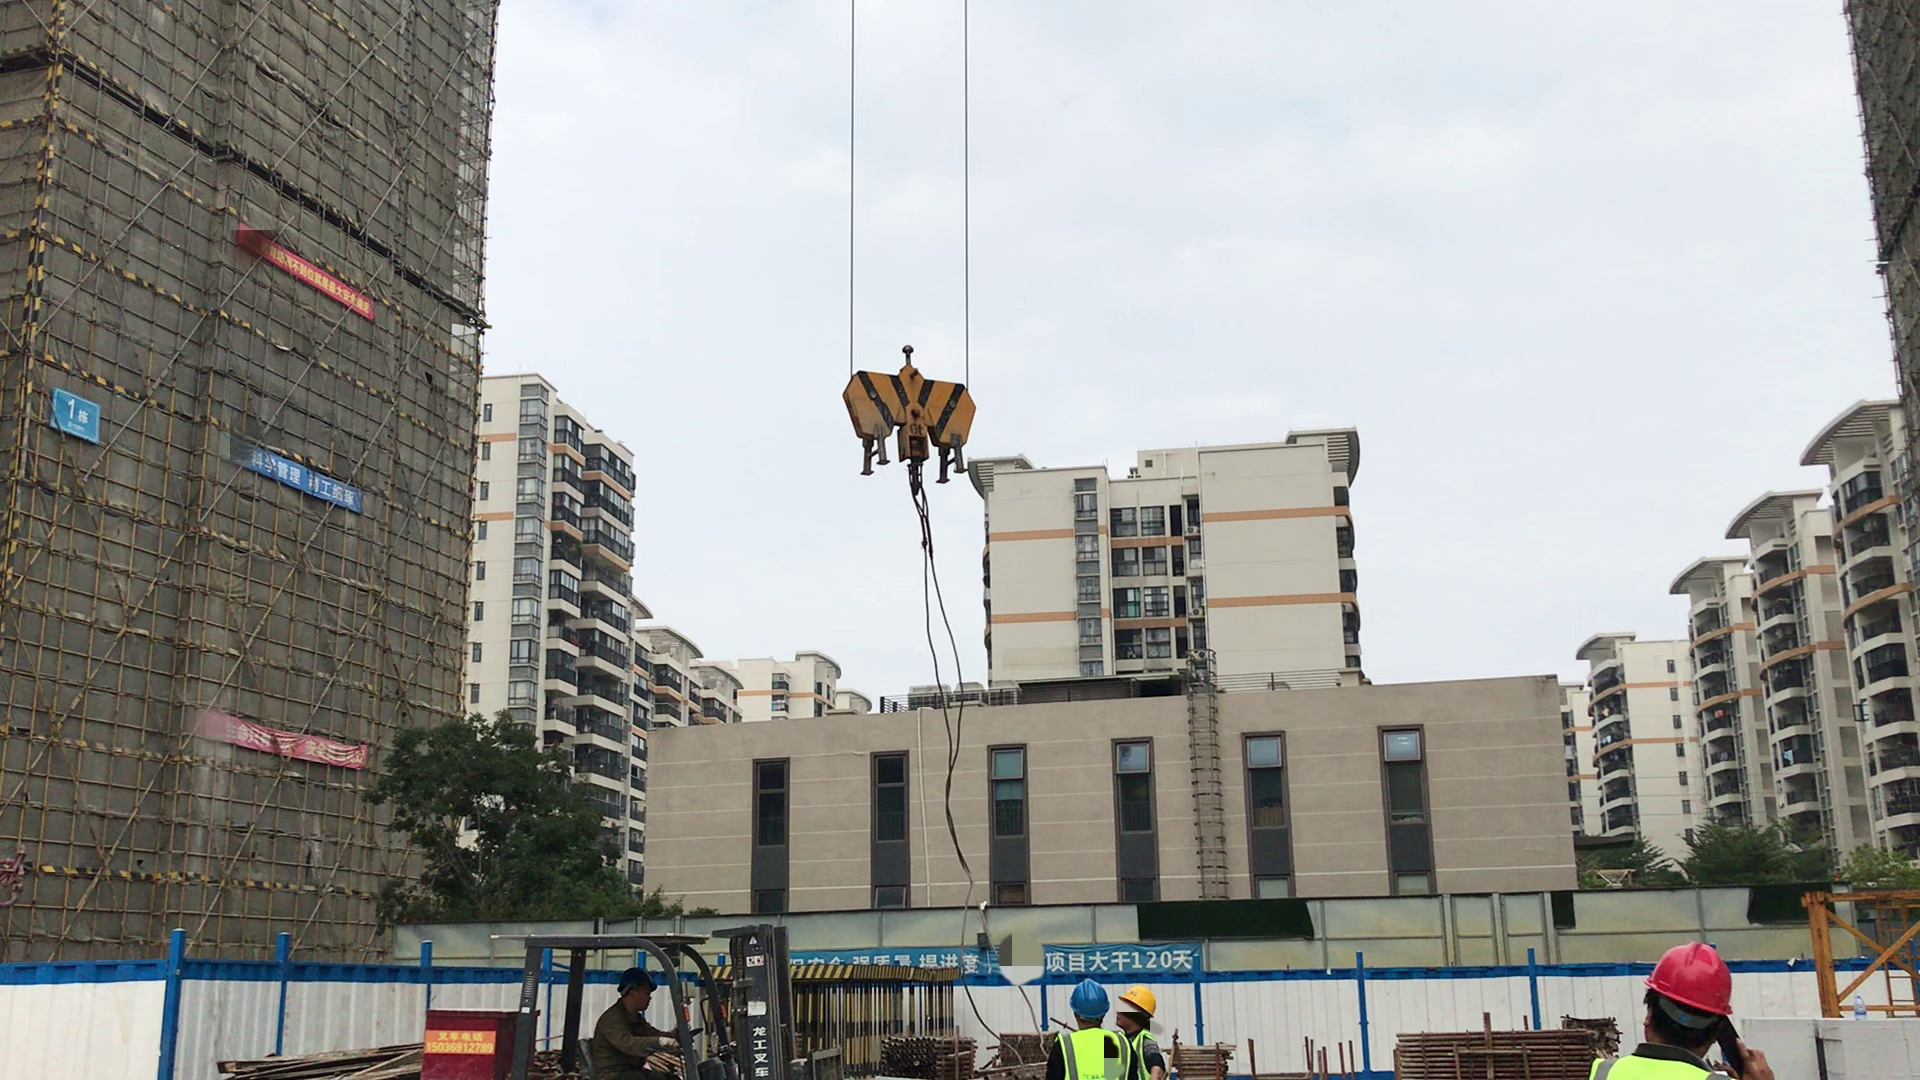brick: (1750, 1010, 1920, 1080)
helmet: (1628, 932, 1751, 1015), (1059, 978, 1115, 1020), (611, 965, 661, 998), (1124, 978, 1158, 1014)
hook: (845, 345, 989, 483)
person: (1586, 925, 1777, 1080), (588, 962, 680, 1080), (1113, 976, 1190, 1080), (1039, 990, 1123, 1080)
scaffold: (881, 1024, 959, 1080)
slogan: (821, 938, 1195, 982), (258, 223, 395, 318), (217, 697, 360, 775), (260, 442, 351, 509)
vest: (1592, 1038, 1708, 1080), (1055, 1028, 1111, 1080), (1128, 1027, 1174, 1080)
